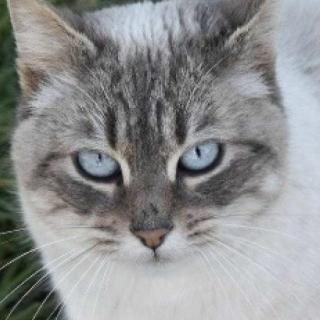cat: (4, 0, 291, 285)
nose: (129, 206, 177, 258)
